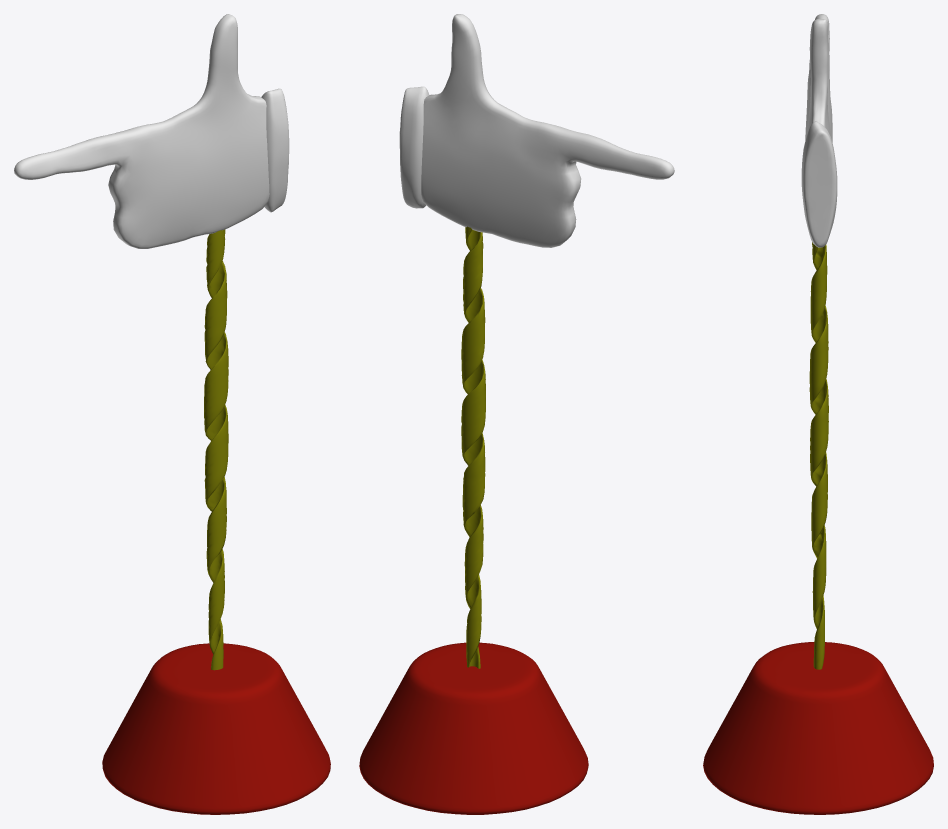
File: Directional Sign 1.fbx
The picture shows the model from 3 angles, left to right: view 1: azimuth 30°, elevation 25°; view 2: azimuth 150°, elevation 25°; view 3: azimuth 270°, elevation 25°; orthographic projection.
Visible parts, largest first — view 1: Directional Sign; view 2: Directional Sign; view 3: Directional Sign.
Part boxes in pixels (left/top/right/bottom): Directional Sign: left=14, top=14, right=330, bottom=814; Directional Sign: left=359, top=14, right=674, bottom=814; Directional Sign: left=703, top=14, right=933, bottom=814.
Size of the model in its own units: 18.83 by 45.16 by 12.47.
